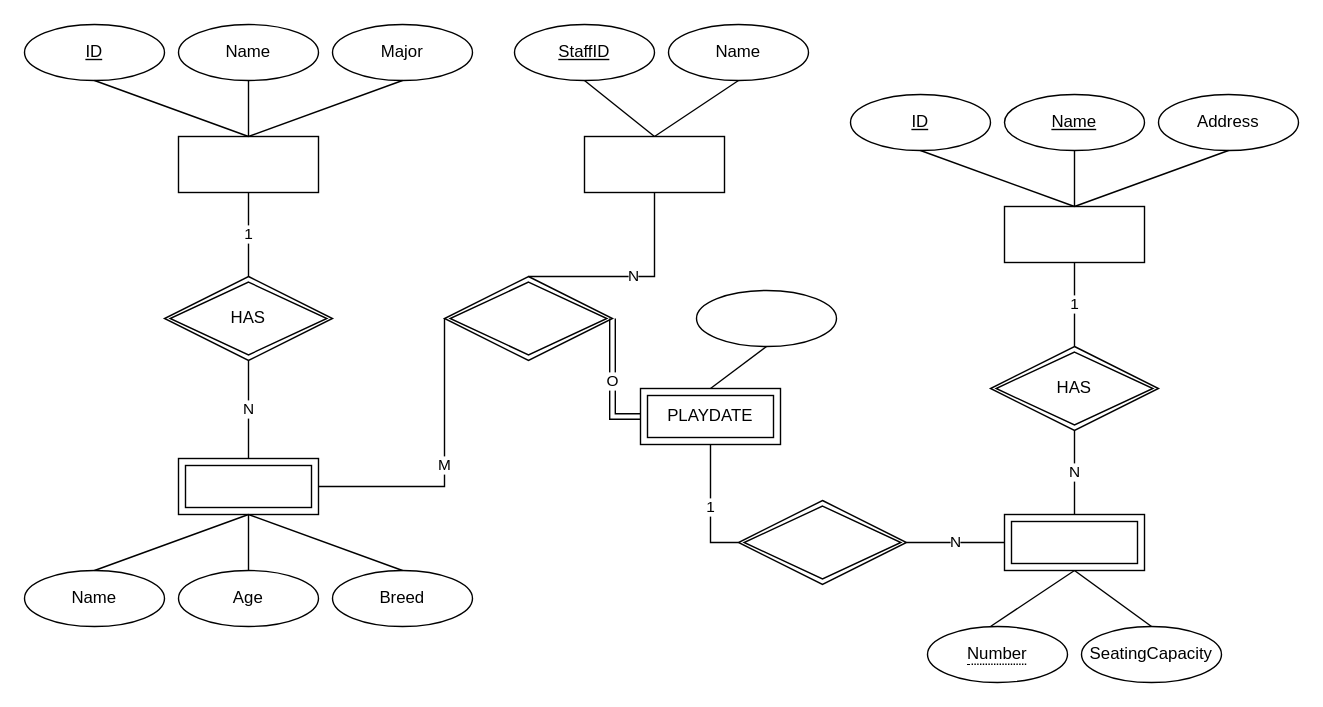
This 1323x707 diagram has some shape labels left out. The centre of each missing label's shape, as x and y in pixels:
BOOKSIN: [527,317]
BUILDING: [1073,233]
Date/Time: [765,317]
PET: [247,485]
Room: [1073,541]
STAFF: [653,163]
STUDENT: [247,163]
USES: [821,541]
